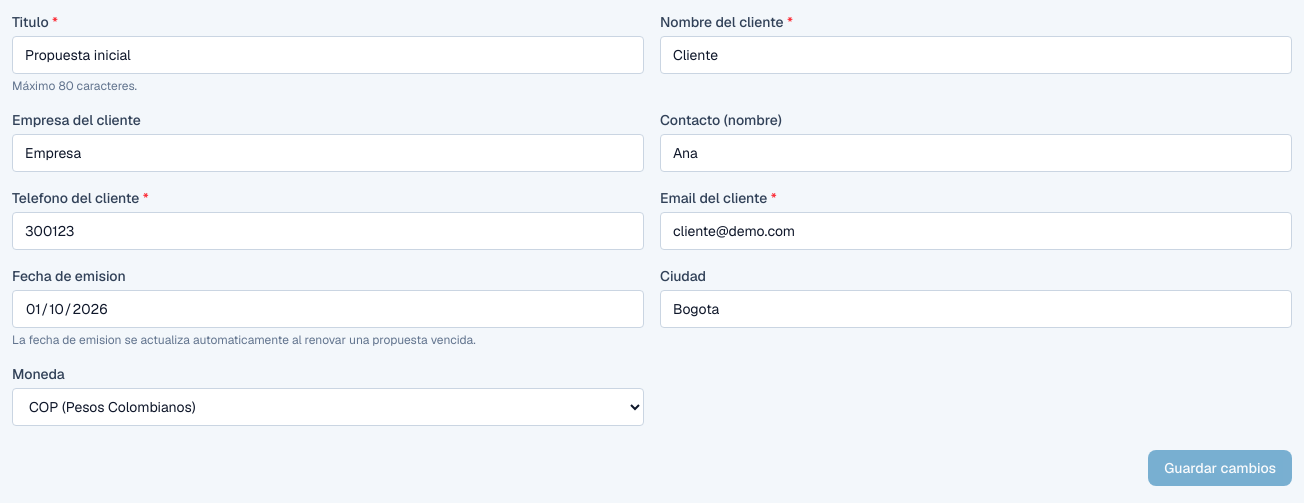
Test: GeneralDataForm › shows validation errors
Clear the field named "clientName" below "Nombre del cliente" at (976, 55), box top-left (660, 36), bottom-right (1292, 74)
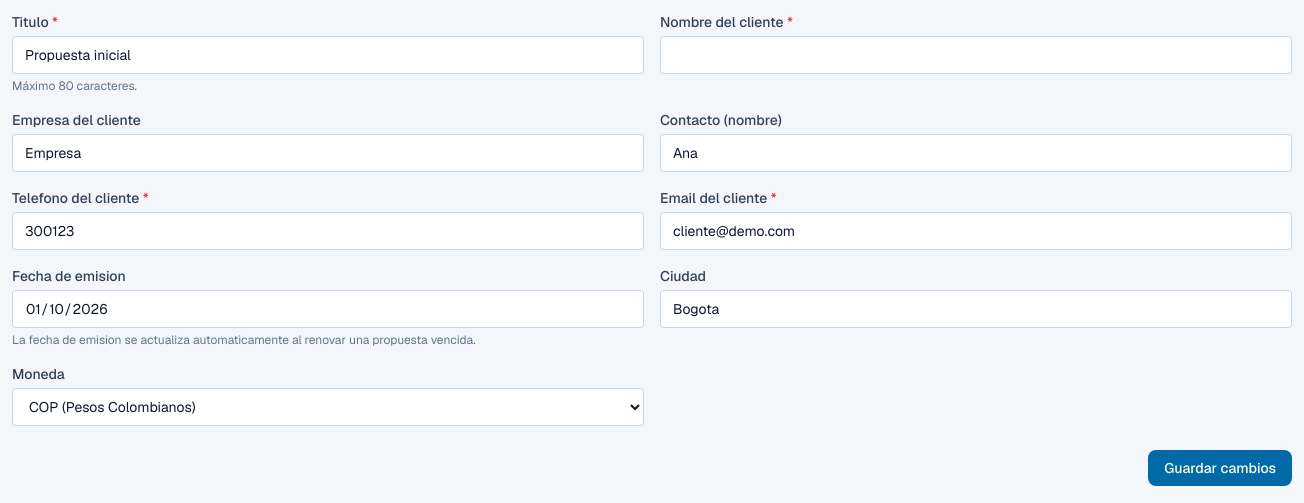
Click the button "Guardar cambios" at (1220, 468), box top-left (1148, 450), bottom-right (1292, 486)
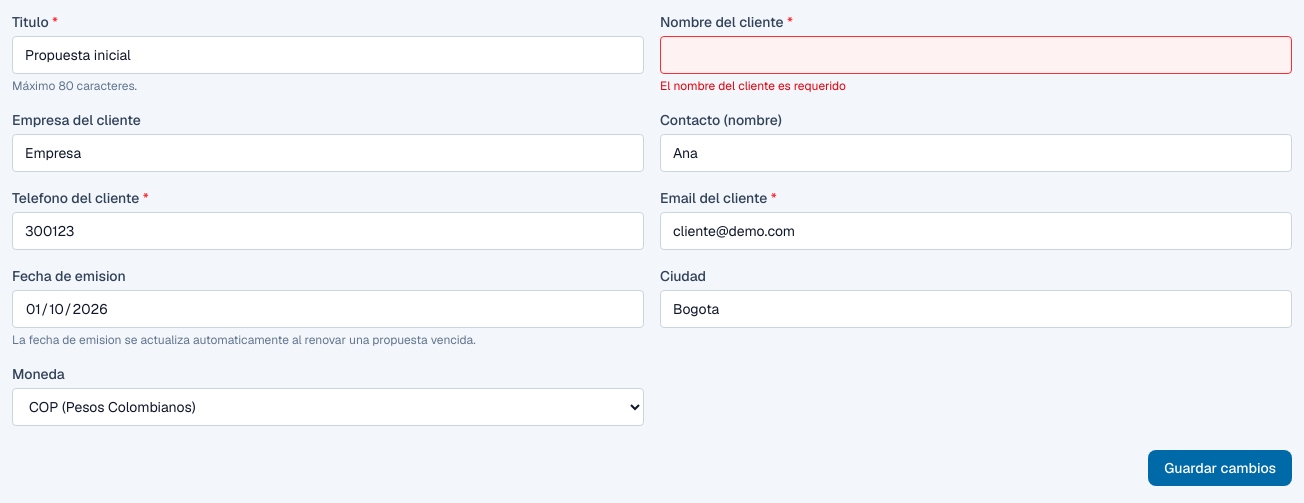
Now the text "El nombre del cliente es requerido" is shown, box top-left (660, 78), bottom-right (846, 94)
